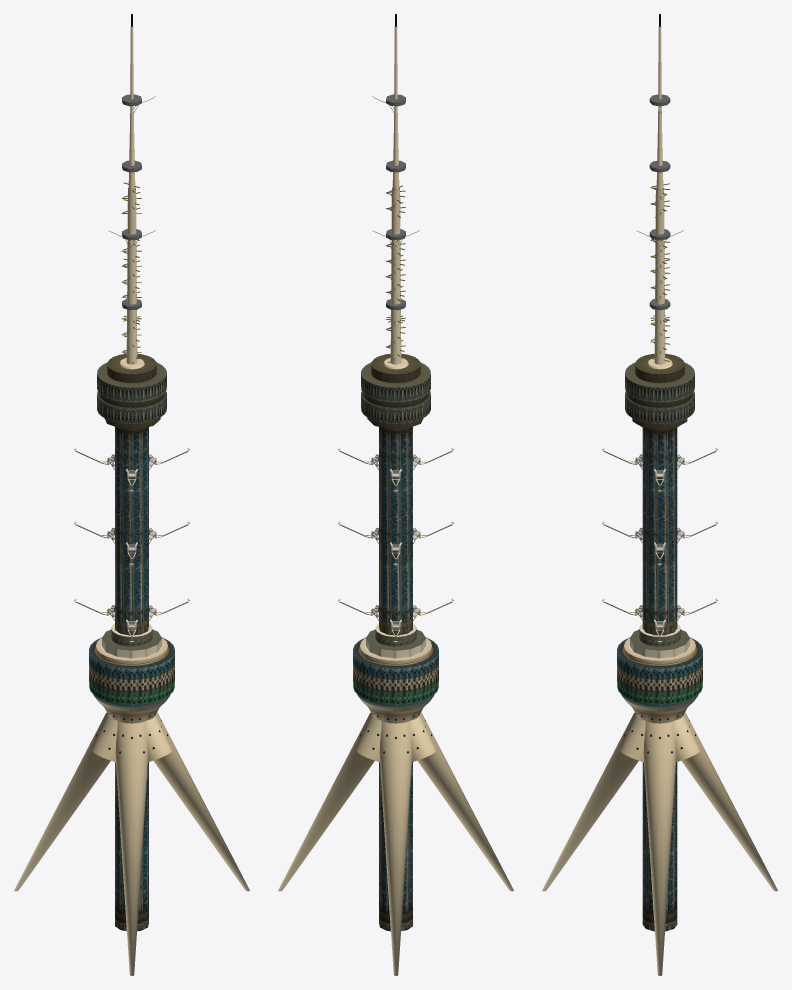
Rendered from tashkent_tv_tower.glb.
3 views of the same model, side by side, from view 1: azimuth 30°, elevation 25°; view 2: azimuth 150°, elevation 25°; view 3: azimuth 270°, elevation 25° (orthographic).
Visible parts, largest first — view 1: tvtower; view 2: tvtower; view 3: tvtower.
Boxes of the visible parts, box(x1,y1,x2,y2) form: tvtower: box(14, 14, 249, 975); tvtower: box(278, 14, 513, 975); tvtower: box(542, 14, 777, 975).
Bounding box in the file's own units: 221 × 1084 × 255.
Materials: 1 (1 with a texture image).
